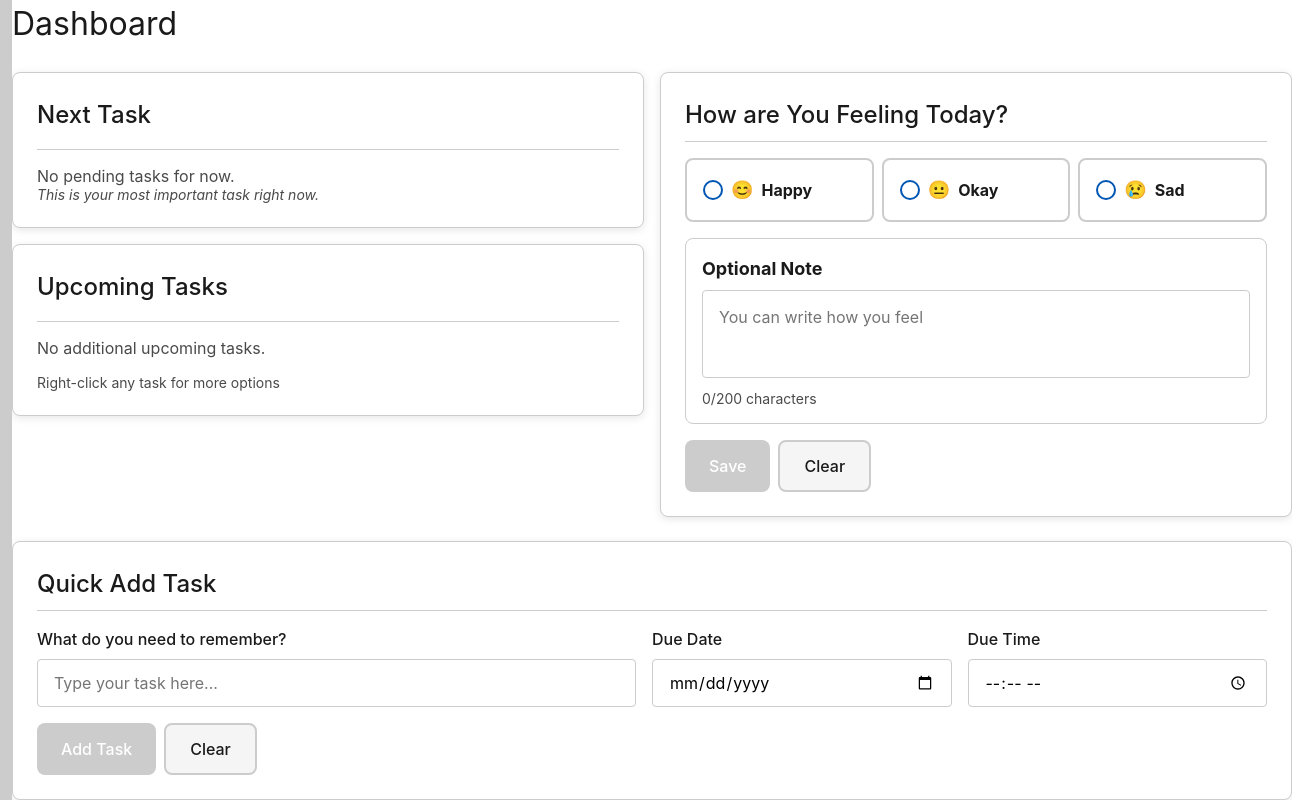
DashboardView › supports quick add due date/time inputs and clear resets all fields
The width and height of the screenshot is (1292, 800).
Step 1. Type "Follow up with clinic" into the field labelled "What do you need to remember?" → (336, 683), box [37, 659, 636, 707]
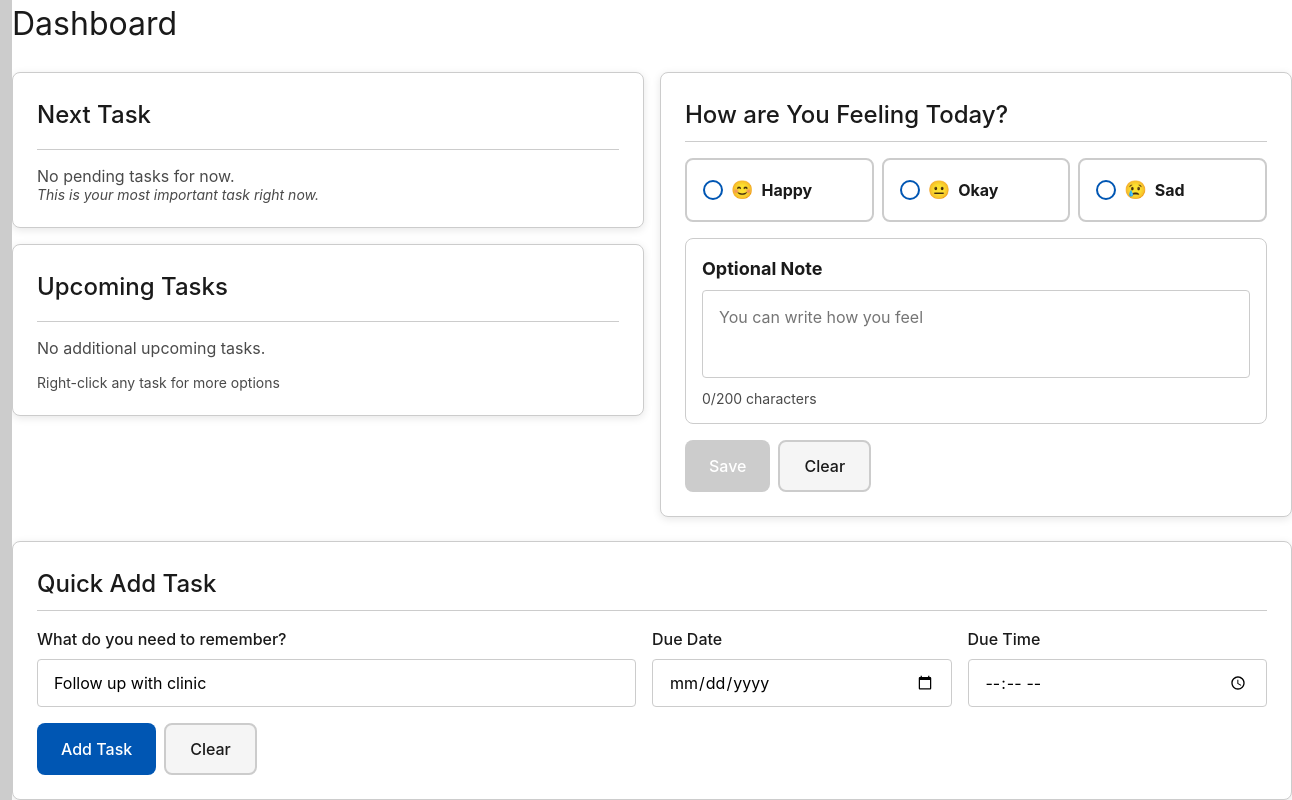
Step 2. Type "2026-03-15" into the date field labelled "Due Date" → (802, 683), box [652, 659, 952, 707]
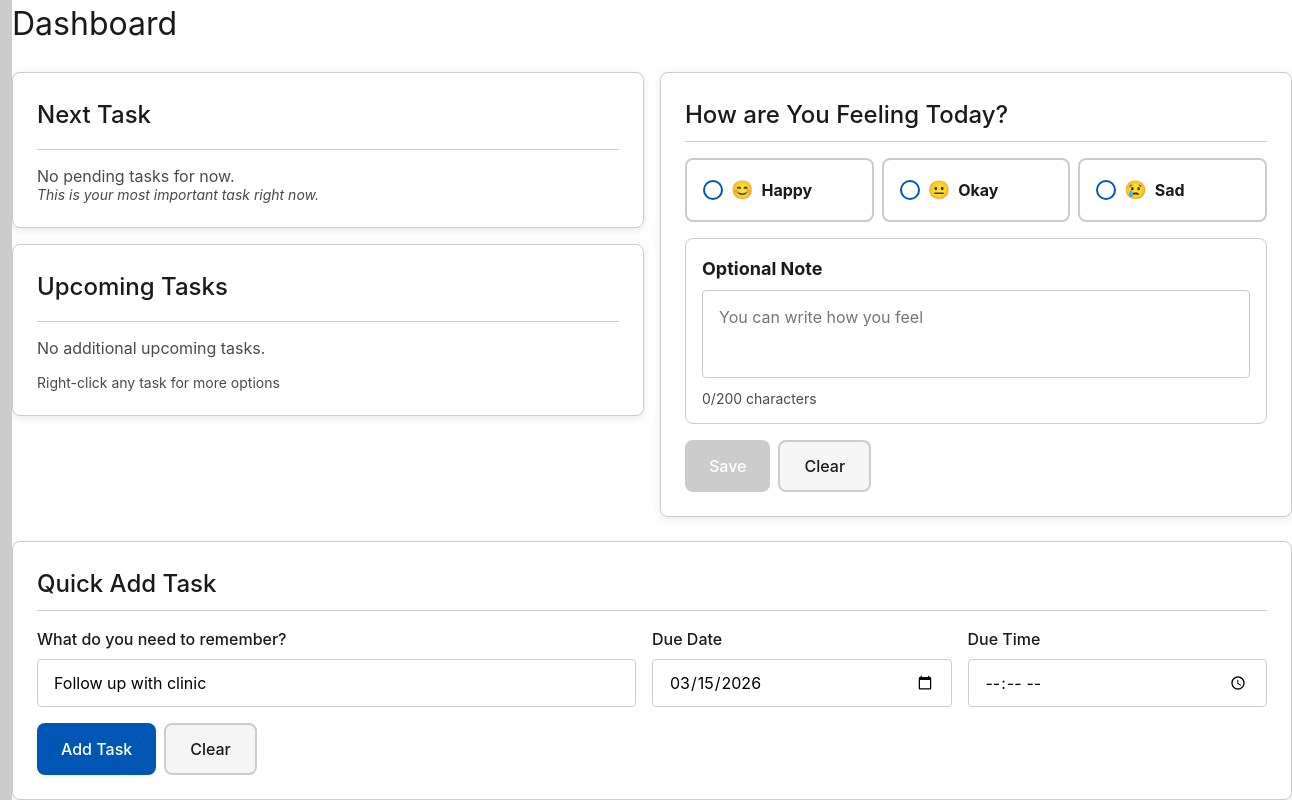
Step 3. Type "13:30" into the time field labelled "Due Time" → (1117, 683), box [968, 659, 1267, 707]
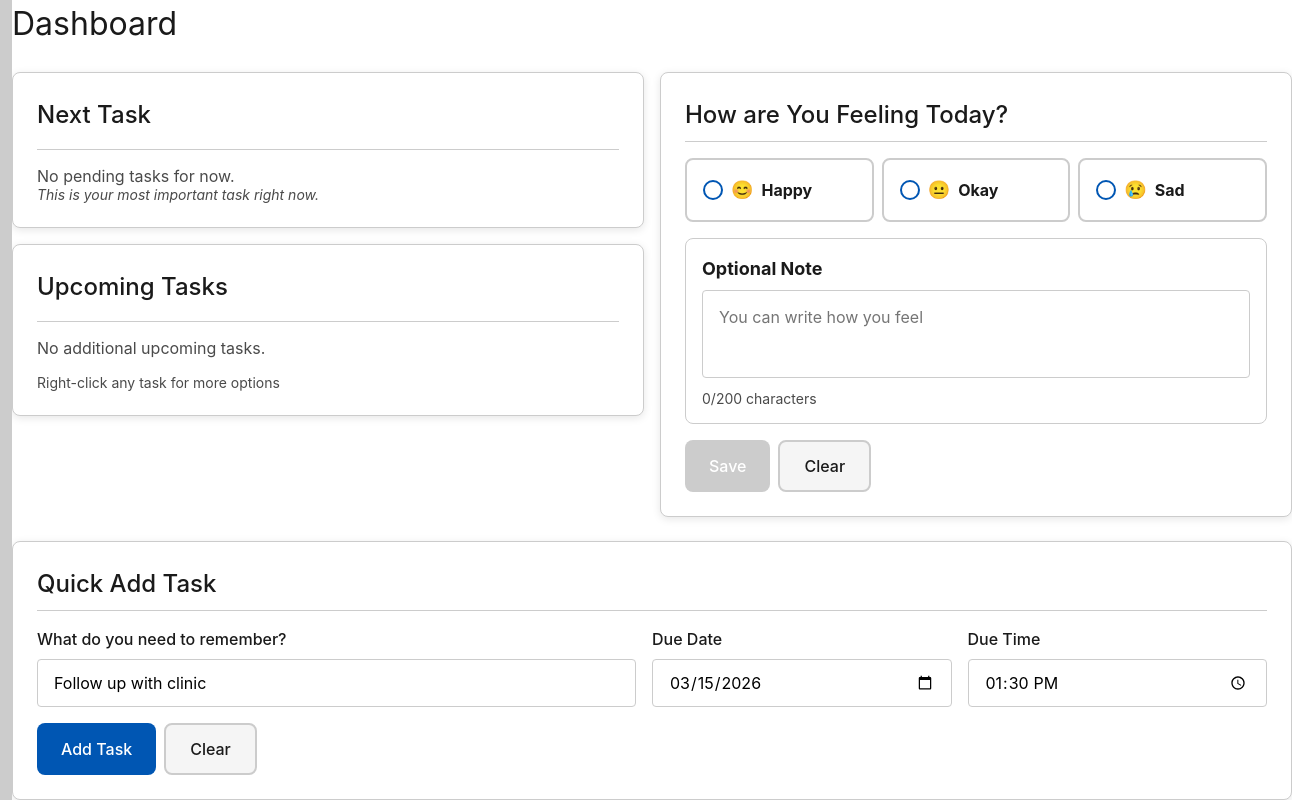
Step 4. Click the button with aria-label "clear quick add form" → (210, 749), box [164, 723, 257, 775]
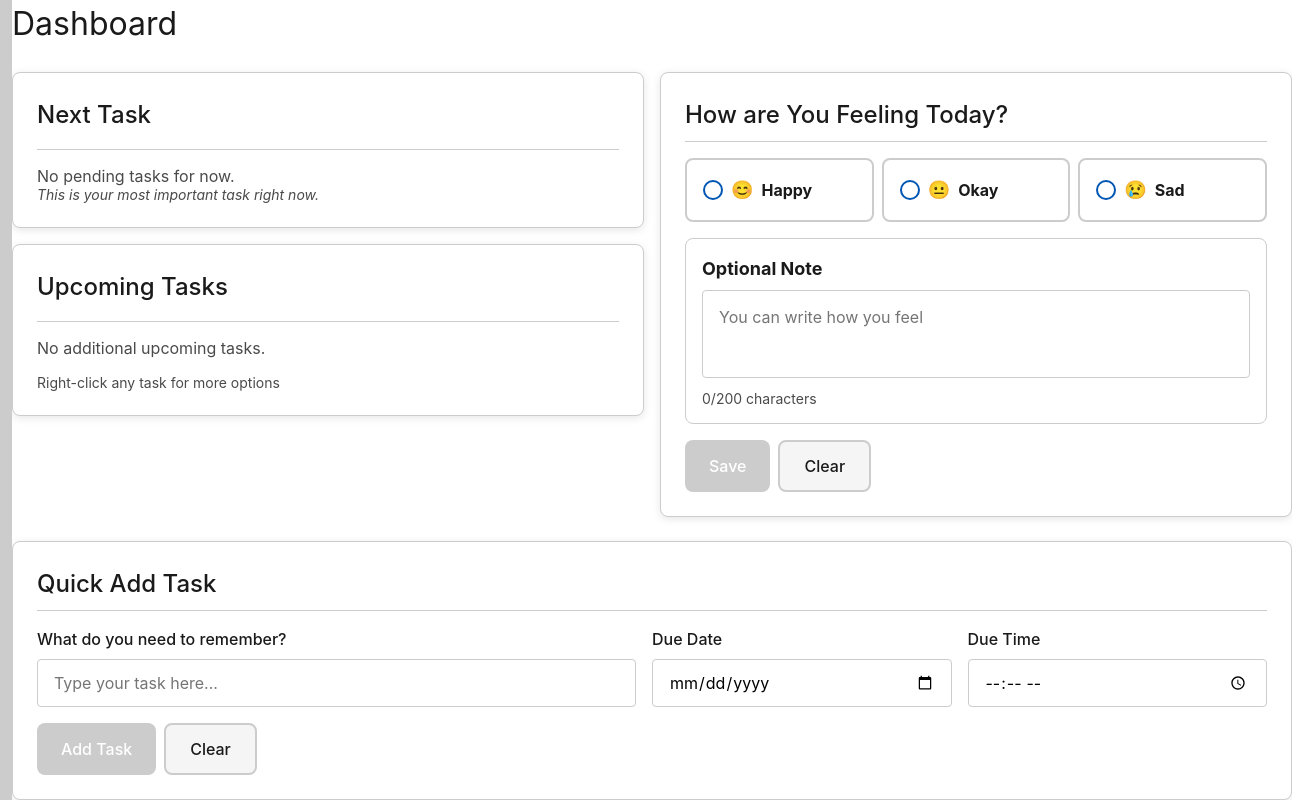
Result: the field labelled "What do you need to remember?" is empty at [37, 659, 636, 707]
Result: the date field labelled "Due Date" is empty at [652, 659, 952, 707]
Result: the time field labelled "Due Time" is empty at [968, 659, 1267, 707]
